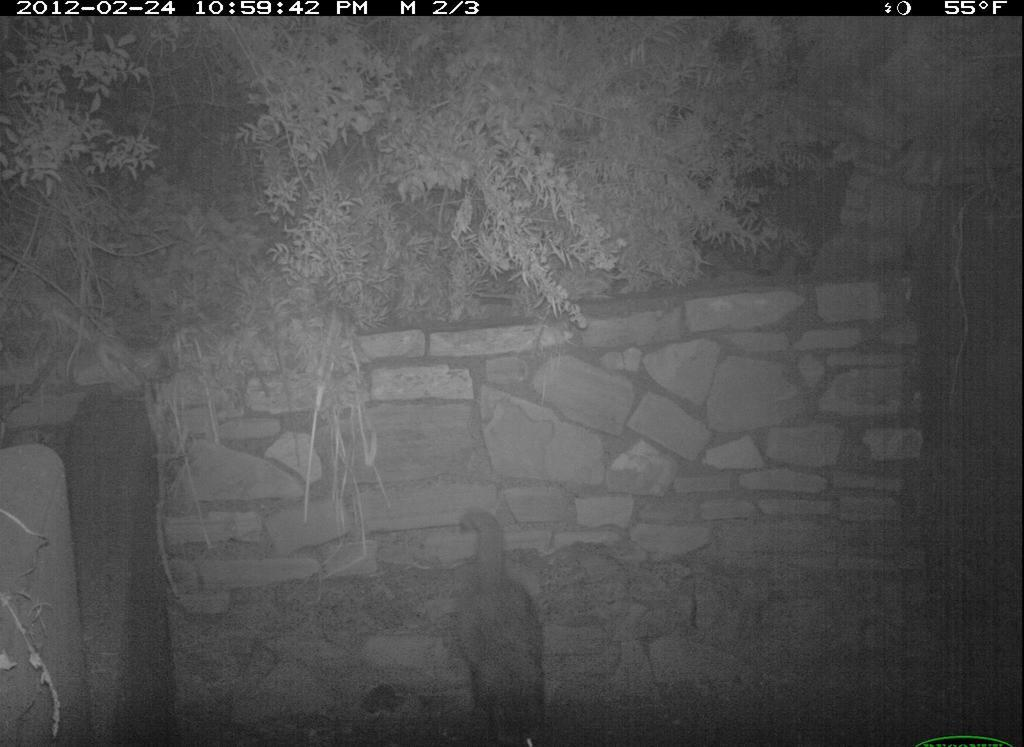raccoon: (440, 497, 575, 747)
